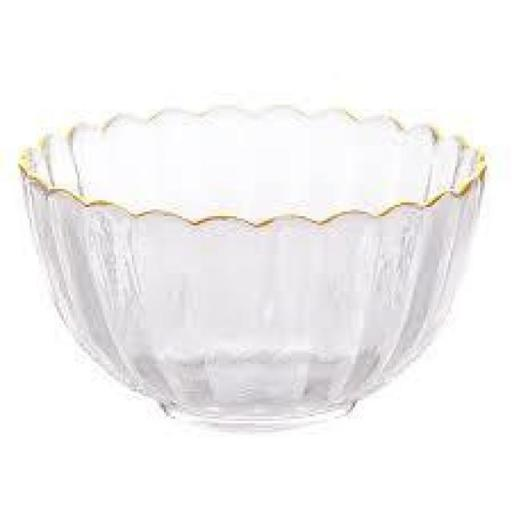glass: (0, 82, 512, 448)
